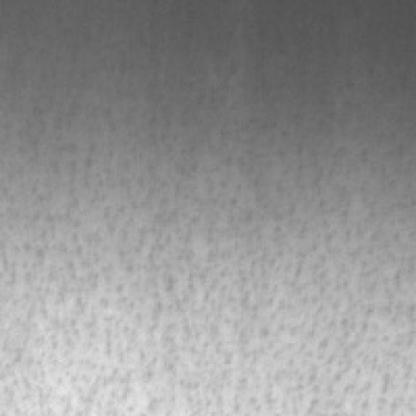pitted_surface: (0, 116, 414, 414)
